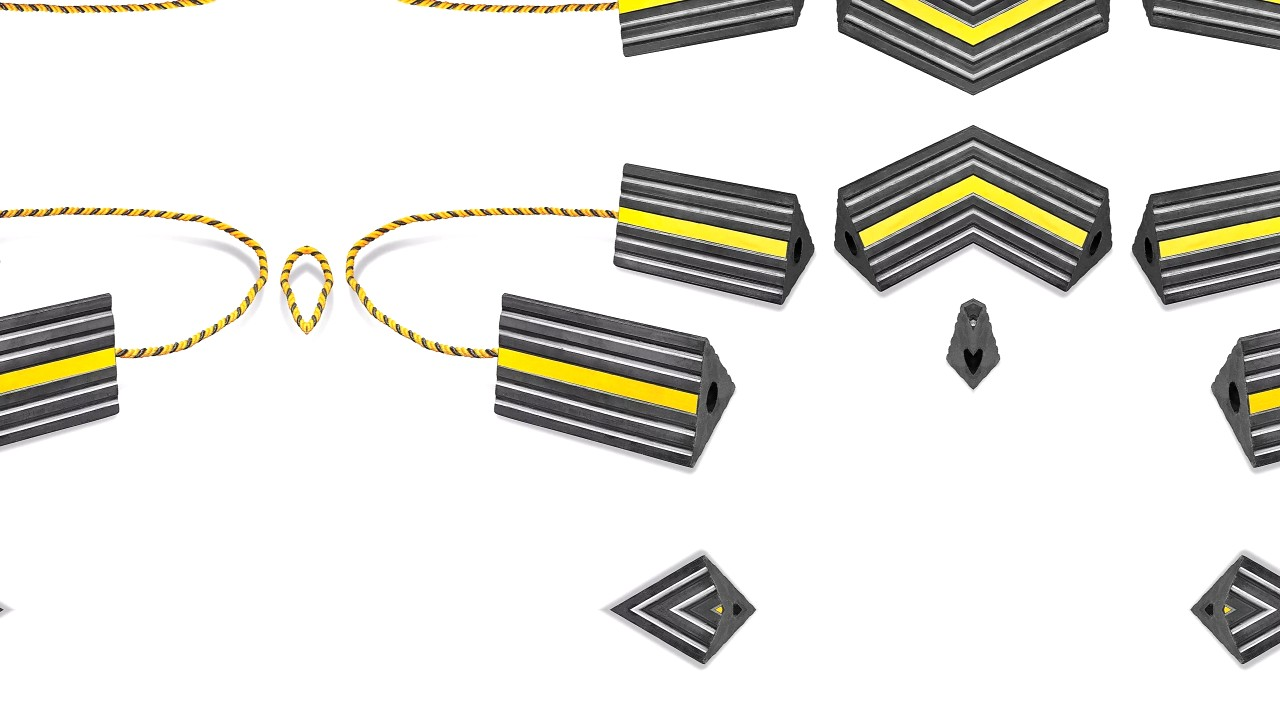chock: (478, 263, 748, 495), (599, 139, 822, 328), (0, 263, 135, 495), (1125, 139, 1280, 328), (973, 111, 1128, 300), (819, 111, 973, 300), (1199, 263, 1280, 495), (599, 0, 822, 81), (973, 0, 1128, 109), (819, 0, 973, 109), (1125, 0, 1280, 81)
